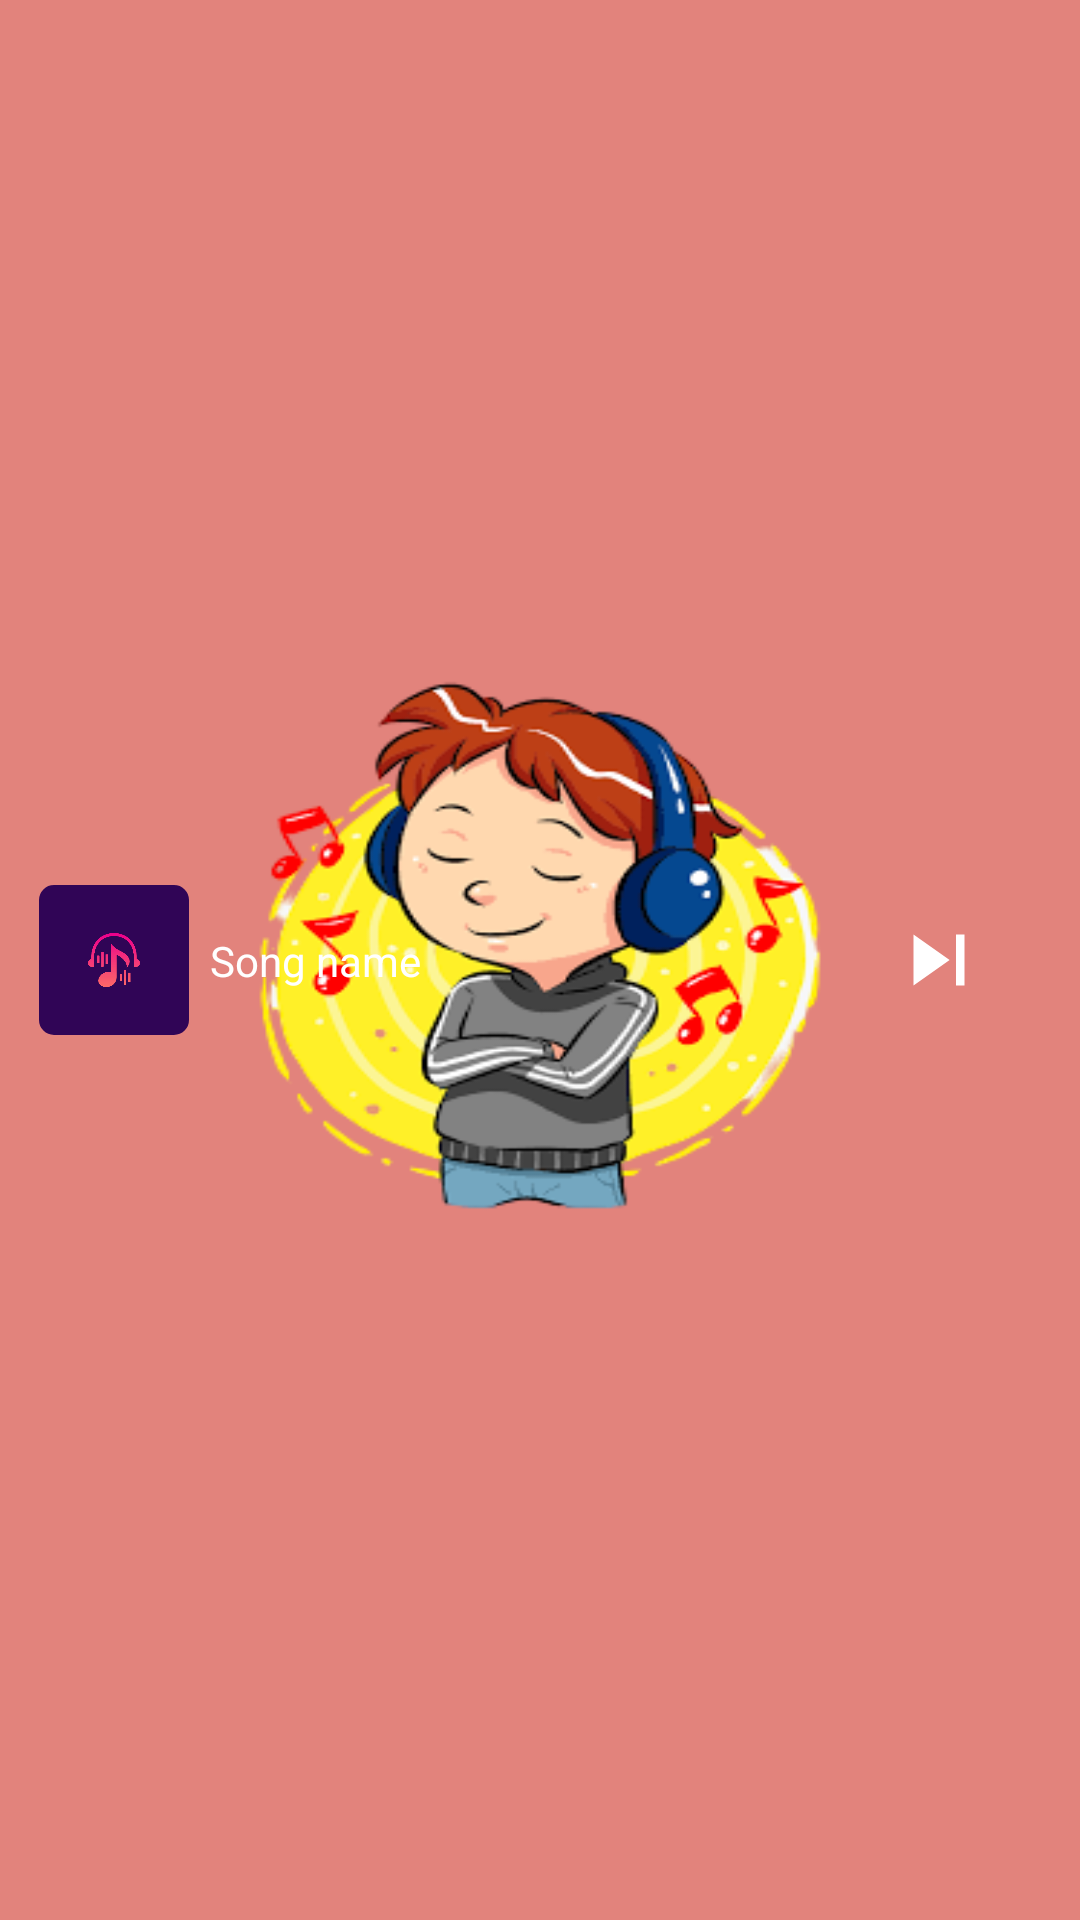

Where icons sit on this 1080px×1920px app screen, as bbox=(x1, y1, x2, y2):
android next not: bbox=(913, 934, 965, 986)
